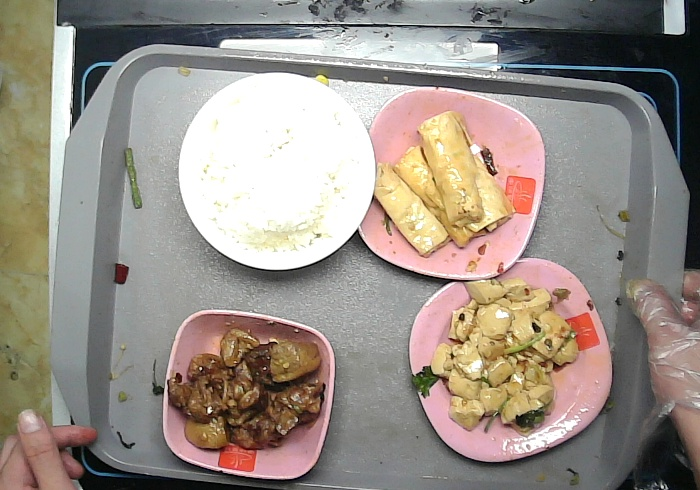SHKJ-Fan_Wan: (177, 71, 378, 272)
SHKJ-Fen_Se_Cai_Die: (356, 85, 546, 281)
SHKJ-Fen_Se_Si_Fang_Cai_Die: (405, 255, 615, 464)
SHKJ-Fen_Se_Xiao_Fang_Die: (161, 306, 337, 482)
